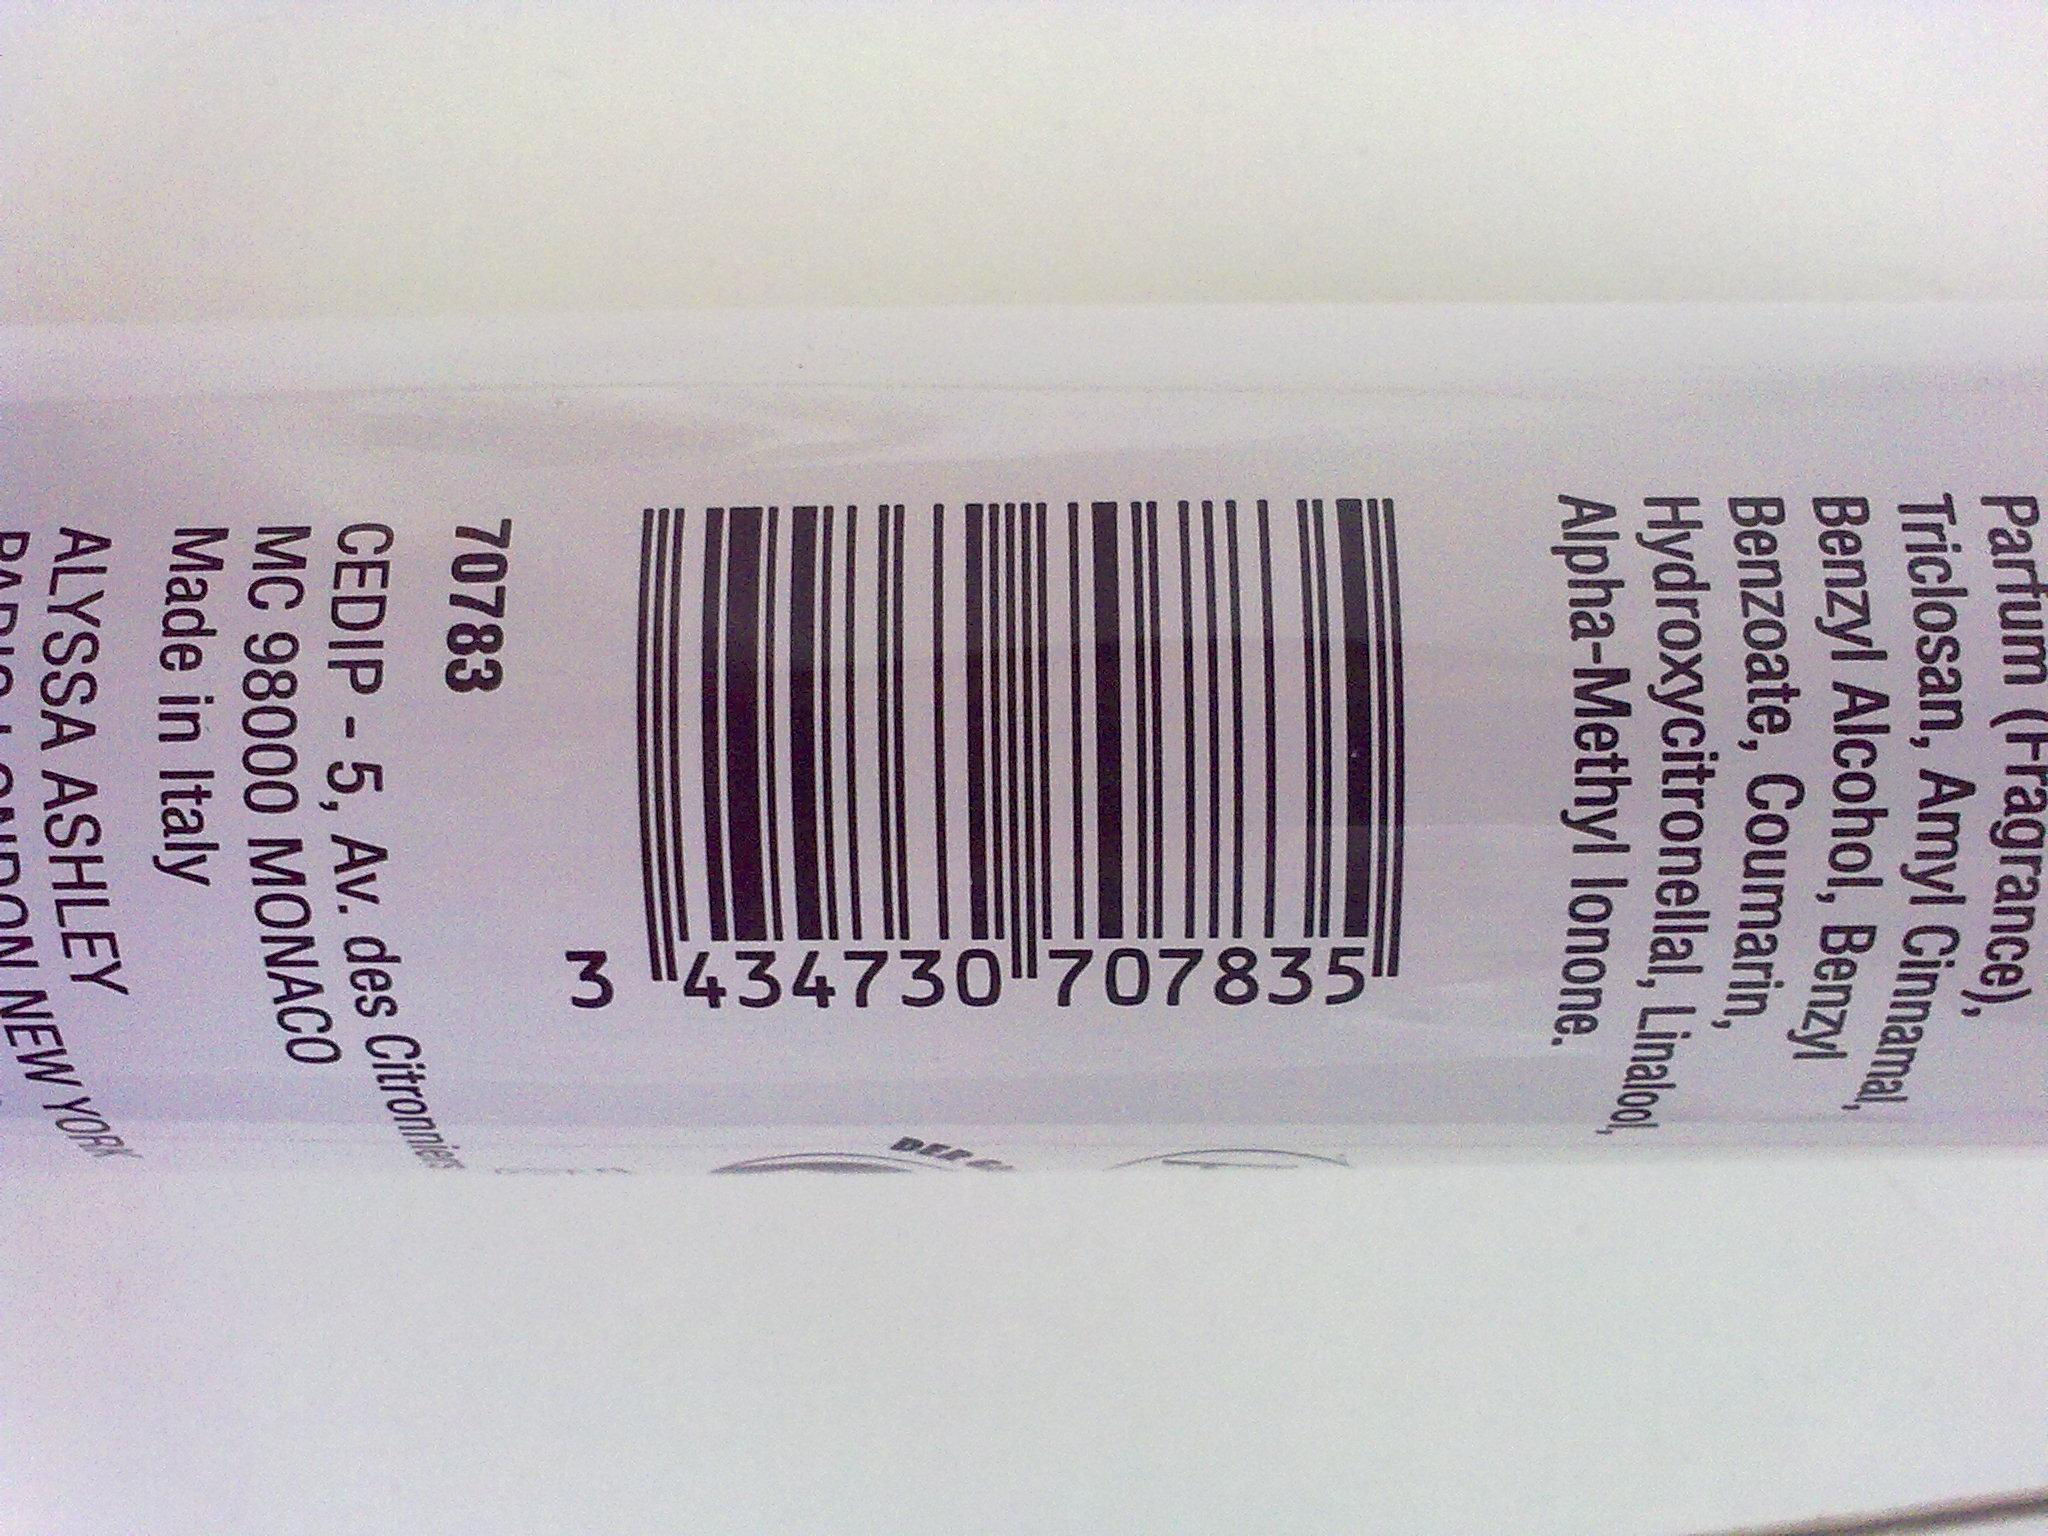barcode: (560, 487, 1419, 1013)
